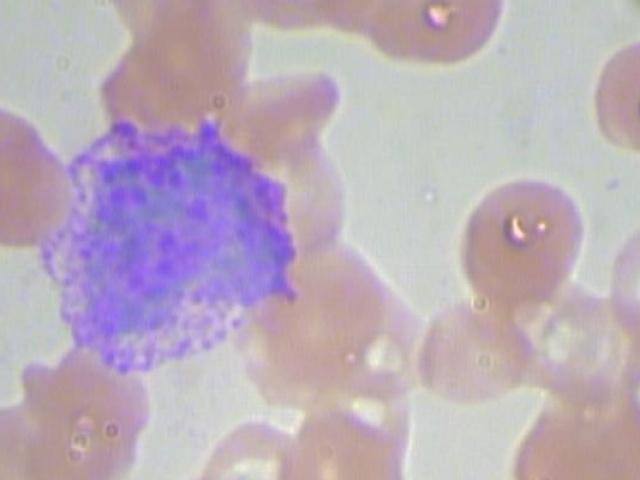RBC: (445, 167, 592, 308), (407, 287, 536, 414), (515, 283, 640, 410), (203, 56, 345, 161), (0, 96, 85, 268), (504, 385, 640, 480), (145, 0, 250, 105), (283, 398, 408, 480), (181, 398, 305, 480), (574, 15, 640, 155), (391, 0, 520, 66), (347, 0, 476, 66), (596, 203, 640, 331), (285, 0, 415, 43), (233, 0, 362, 34), (608, 312, 640, 440)
WBC: (18, 118, 302, 373)
